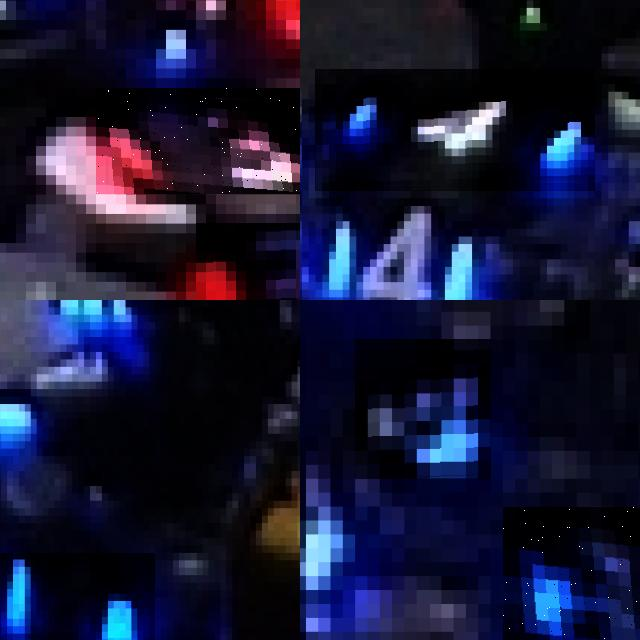B3: (355, 339, 491, 479), (503, 506, 640, 640)
B4: (315, 69, 595, 191), (315, 198, 485, 300), (0, 552, 155, 640)
R3: (96, 87, 300, 194), (196, 223, 300, 300)
